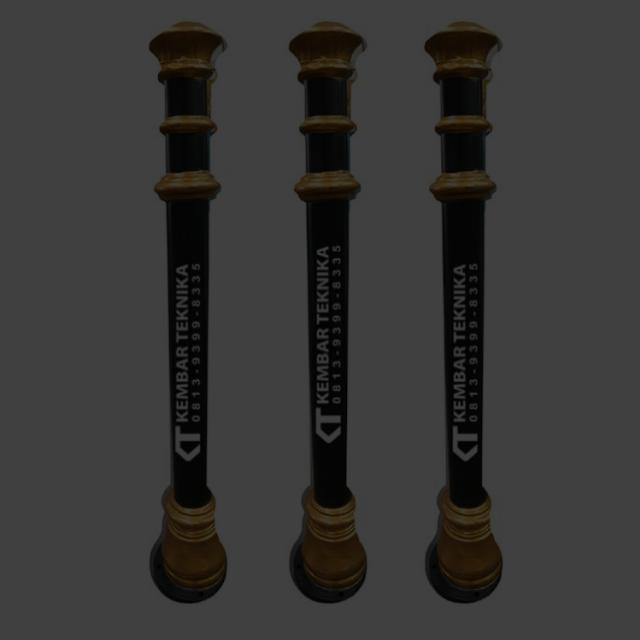obstacle: (145, 18, 229, 600), (428, 14, 503, 607), (293, 18, 367, 604)
